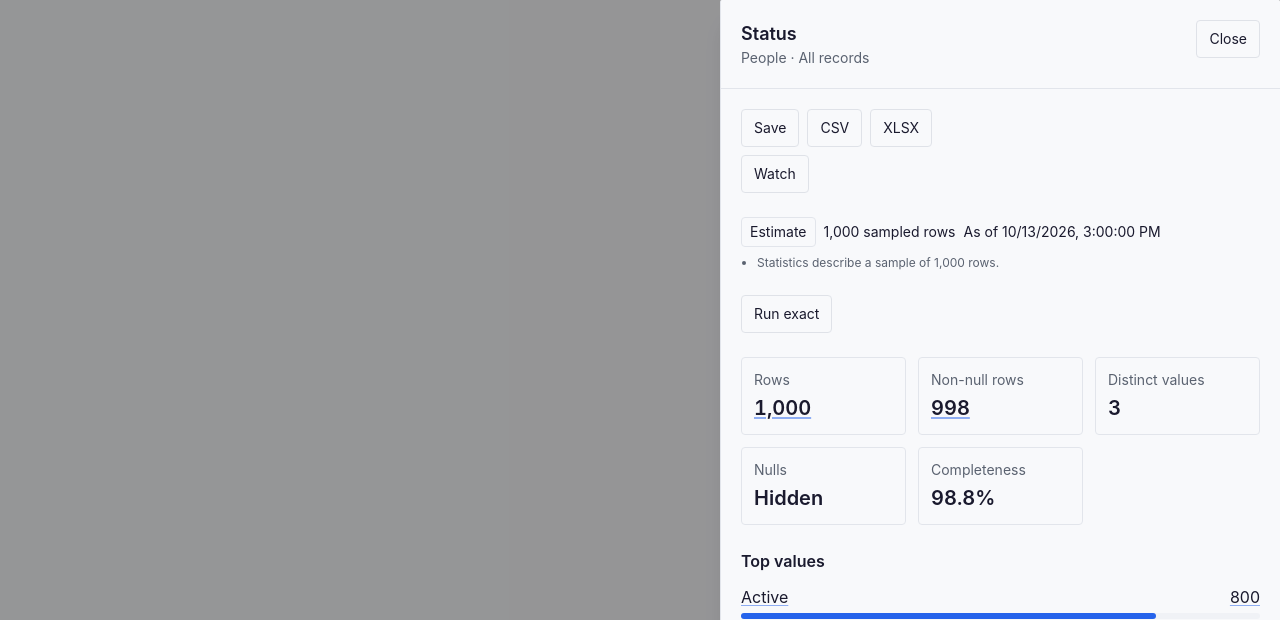
Test case: column profile › renders metrics, suppression, estimate, top-value drills and passes axe
Expected: the link "1,000" is shown, 754,396 -> 811,420
Expected: the text "Estimate" is shown, 741,217 -> 816,247
Focus the text "Hidden" at (789, 498), box 754,486 -> 823,510
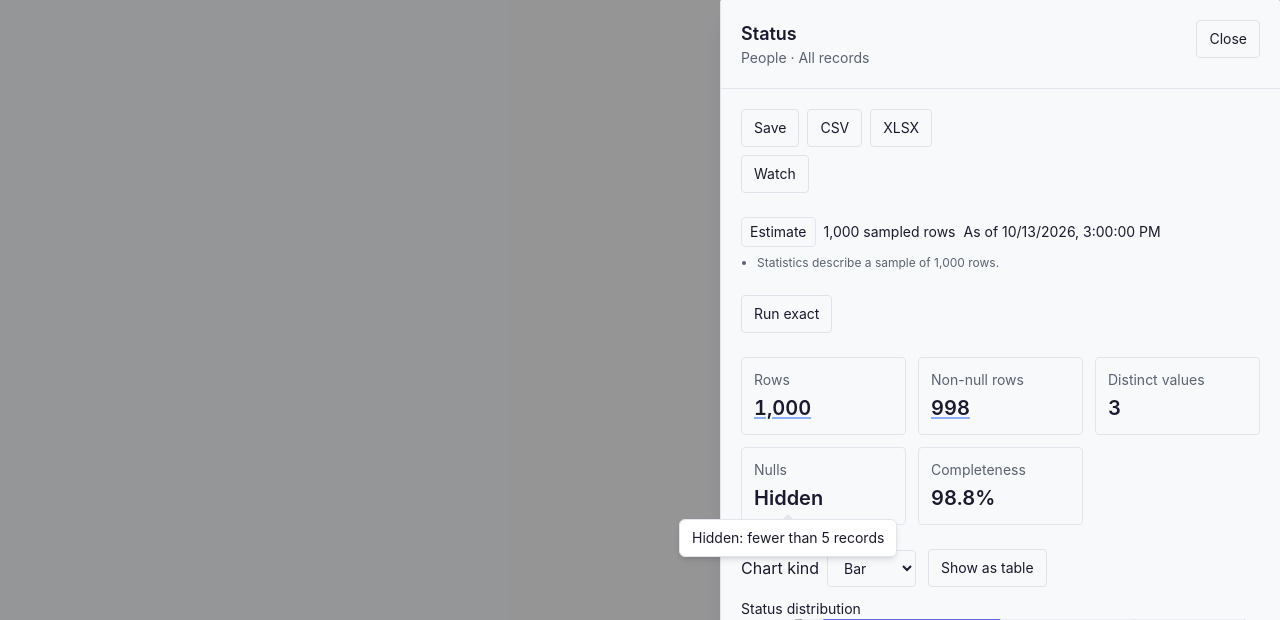
Expected: the text "People · All records" is shown, 741,48 -> 869,68
Result: the tooltip shows "fewer than 5 records" at 692,529 -> 884,546
